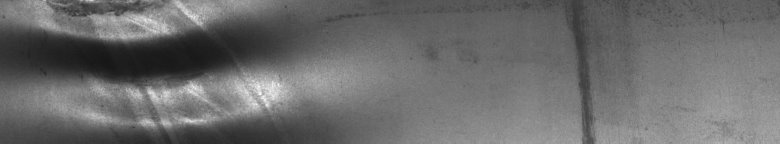ke: (27, 4, 270, 136)
